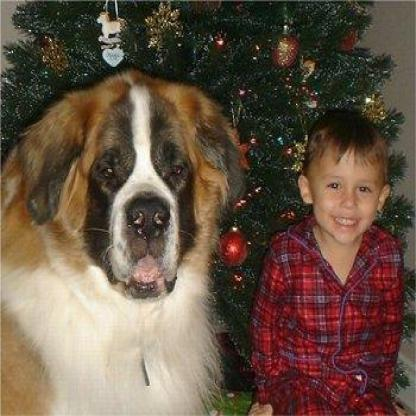Saint_Bernard: (0, 60, 251, 413)
